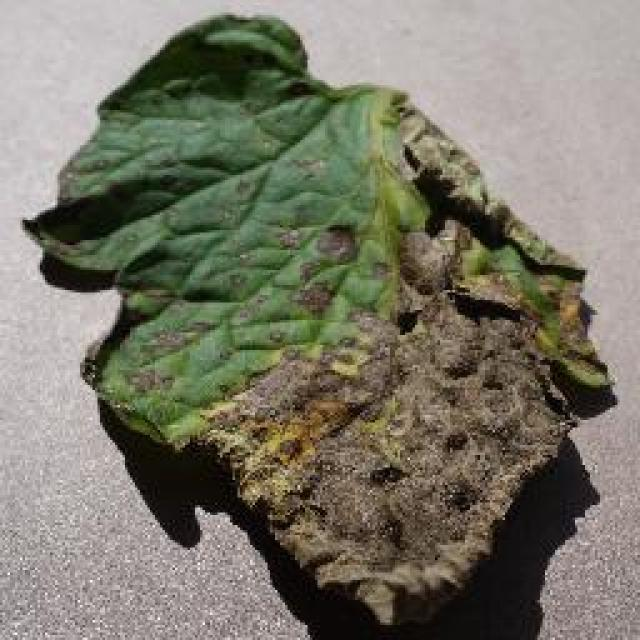Tomato___Early_blight: (24, 14, 617, 633)
